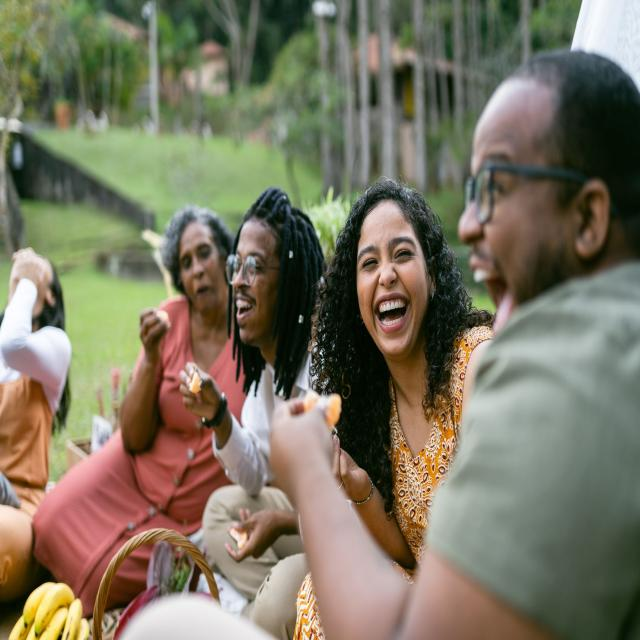adult: (267, 50, 639, 640), (32, 204, 250, 613), (299, 179, 491, 640), (181, 190, 324, 640), (0, 244, 72, 602)
